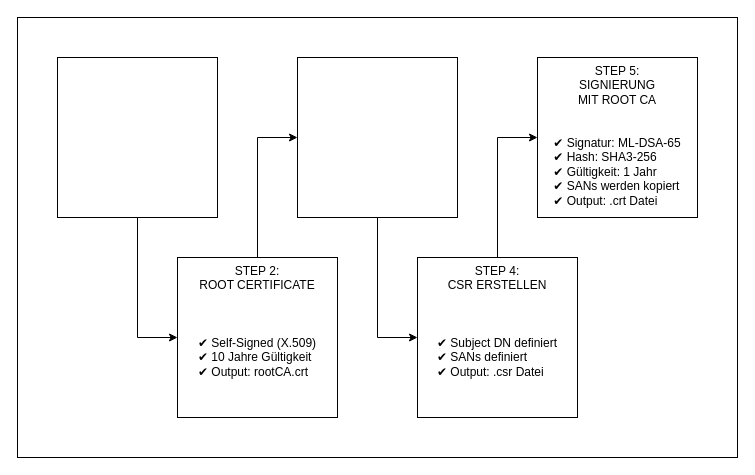
Image size: 755x475. Some labels were removed from this diagram. The shapes that lost their labels are listed below. From the top down, each one's centre as x and y in pixels, then its label:
At (137,137): "STEP 1: ROOT CA KEY ✔ ML-DSA-87 ✔ Output: rootCA.key".
At (377,137): "STEP 3: SIDECAR PROXY KEY ✔ ML-DSA-65 ✔ Output: .key".
